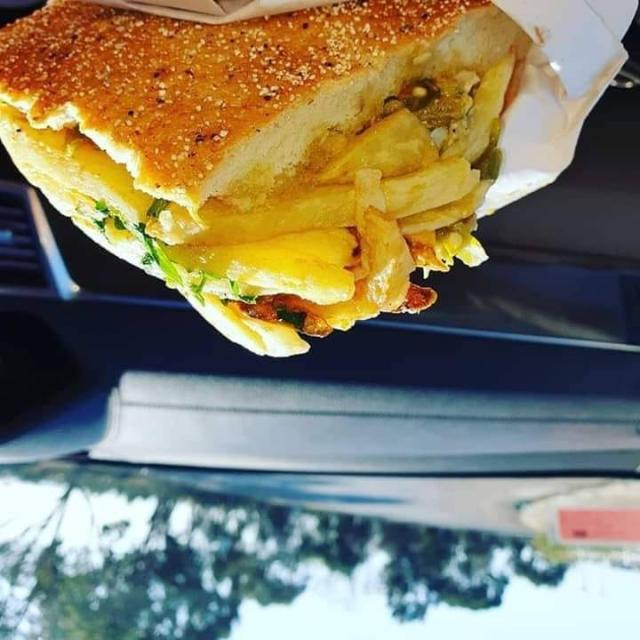Sandwitch tounsi: (6, 0, 581, 361)
